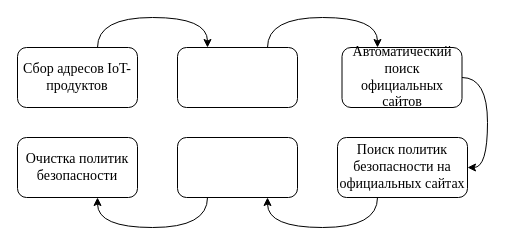
Some shapes in this 505 by 245 pixel diagram are drawn without their labels. Here are the shapes that lost their labels. From the top down, the centre of each, then its label:
At (x=237, y=77): "Составление списка производителей".
At (x=237, y=167): "Скачивание политик безопасности".
